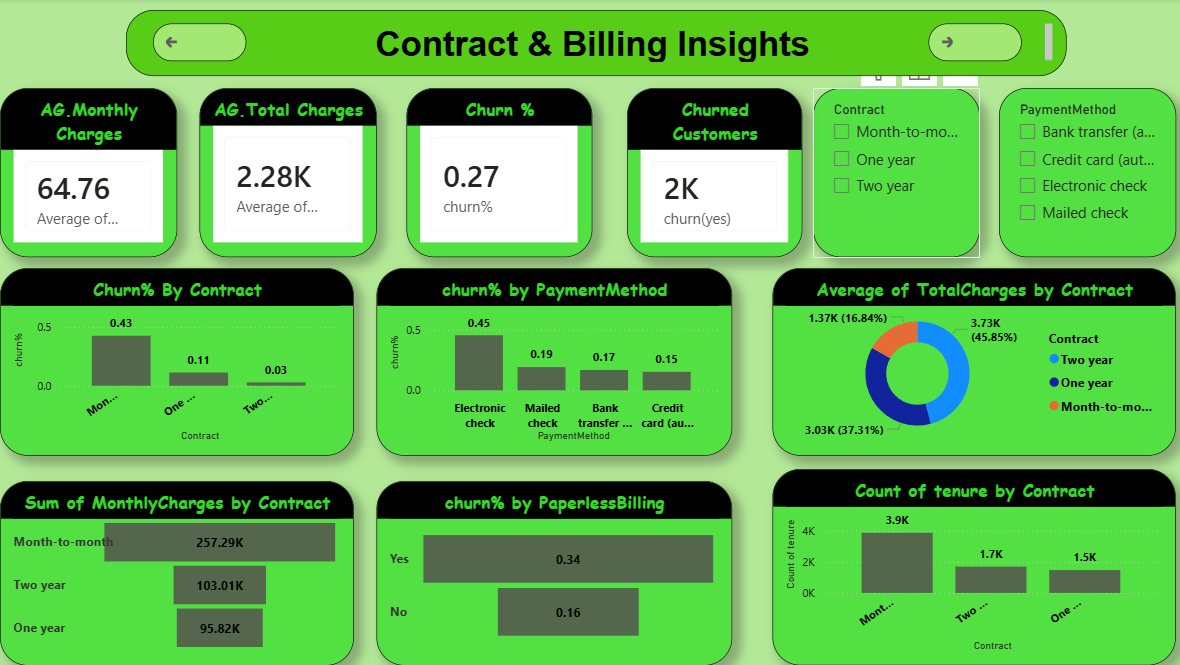

The dashboard page shown, as its layout file describes it:
{"tool":"powerbi","page":{"name":"Page 4","canvas":[1280,720],"ordinal":2},"visuals":[{"type":"columnChart","title":"Churn% By Contract","fields":{"Category":["customer.Contract"],"Y":["customer.churn%"]},"box":[0,291.5,382.1,202.4],"z":0},{"type":"columnChart","fields":{"Category":["customer.PaymentMethod"],"Y":["customer.churn%"]},"box":[406.4,291.5,383.8,202.4],"z":1000},{"type":"donutChart","fields":{"Category":["customer.Contract"],"Y":["Avg(customer.TotalCharges)"]},"box":[833.9,291.5,435.6,202.4],"z":2000},{"type":"funnel","fields":{"Category":["customer.Contract"],"Y":["Sum(customer.MonthlyCharges)"]},"box":[0,521.4,382.1,199.2],"z":3000},{"type":"funnel","fields":{"Category":["customer.PaperlessBilling"],"Y":["customer.churn%"]},"box":[406.4,521.4,383.8,199.2],"z":4000},{"type":"columnChart","fields":{"Y":["CountNonNull(customer.tenure)"],"Category":["customer.Contract"]},"box":[833.9,508.4,435.6,212.1],"z":5000},{"type":"cardVisual","title":"AG.Monthly Charges","fields":{"Data":["Avg(customer.MonthlyCharges)"]},"box":[0,97.2,191.1,183],"z":6000},{"type":"cardVisual","title":"AG.Total Charges","fields":{"Data":["Avg(customer.TotalCharges)"]},"box":[215.4,97.2,191.1,183],"z":7000},{"type":"cardVisual","title":"Churn %","fields":{"Data":["customer.churn%"]},"box":[438.8,97.2,200.8,183],"z":8000},{"type":"cardVisual","title":"Churned Customers","fields":{"Data":["customer.churn(yes)"]},"box":[676.8,97.2,189.4,183],"z":9000},{"type":"slicer","fields":{"Values":["customer.Contract"]},"box":[877.6,97.2,179.7,183],"z":10000},{"type":"slicer","fields":{"Values":["customer.PaymentMethod"]},"box":[1078.4,97.2,191.1,183],"z":11000},{"type":"textbox","box":[136,13,1015.3,71.2],"z":12000},{"type":"actionButton","box":[1002.3,27.5,100.4,40.5],"z":12001},{"type":"actionButton","box":[165.2,27.5,100.4,40.5],"z":12002}]}

Visuals, with their boxes in screenshot pixels (x1, y1, x2, y2), scaled from the page's 1280x720 canvas onto the 1180x665 screenshot:
"Churn% By Contract" columnChart: detection(0, 269, 352, 456)
columnChart - customer.PaymentMethod x customer.churn%: detection(375, 269, 728, 456)
donutChart - customer.Contract x Avg(customer.TotalCharges): detection(769, 269, 1170, 456)
funnel - customer.Contract x Sum(customer.MonthlyCharges): detection(0, 482, 352, 664)
funnel - customer.PaperlessBilling x customer.churn%: detection(375, 482, 728, 664)
columnChart - CountNonNull(customer.tenure) x customer.Contract: detection(769, 470, 1170, 664)
"AG.Monthly Charges" cardVisual: detection(0, 90, 176, 259)
"AG.Total Charges" cardVisual: detection(199, 90, 375, 259)
"Churn %" cardVisual: detection(405, 90, 590, 259)
"Churned Customers" cardVisual: detection(624, 90, 799, 259)
slicer - customer.Contract: detection(809, 90, 975, 259)
slicer - customer.PaymentMethod: detection(994, 90, 1170, 259)
textbox: detection(125, 12, 1061, 78)
actionButton: detection(924, 25, 1017, 63)
actionButton: detection(152, 25, 245, 63)
